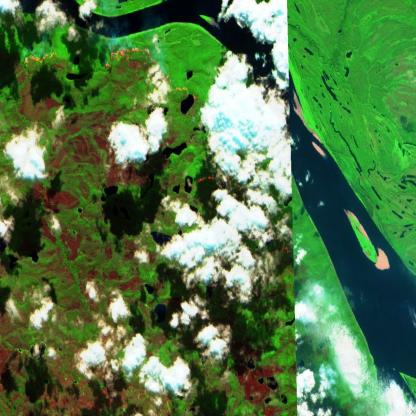fire: (102, 42, 188, 101), (192, 168, 249, 192), (263, 222, 293, 266), (18, 46, 70, 70)
